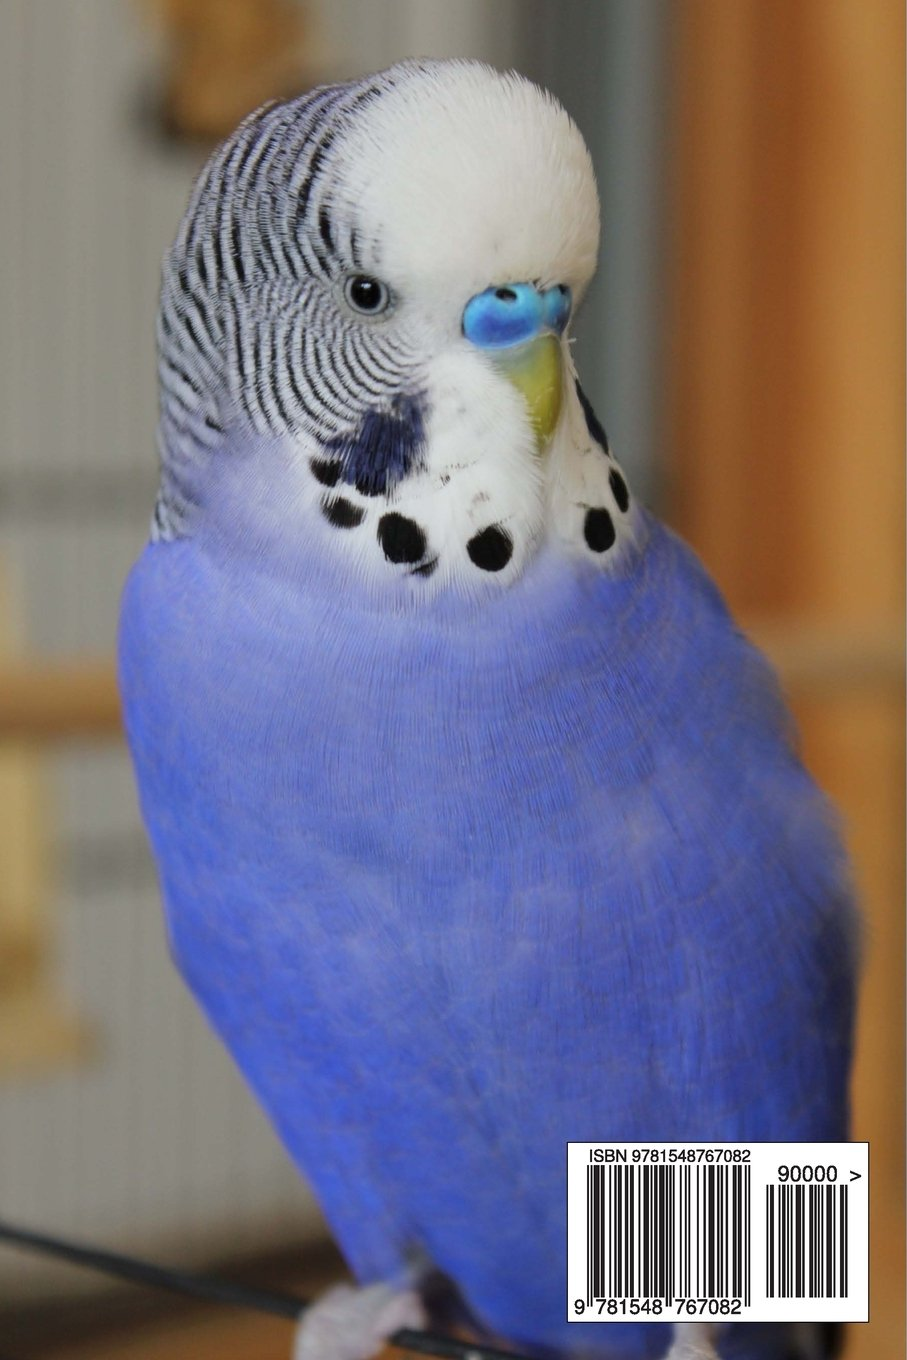budgie: (116, 54, 865, 1358)
